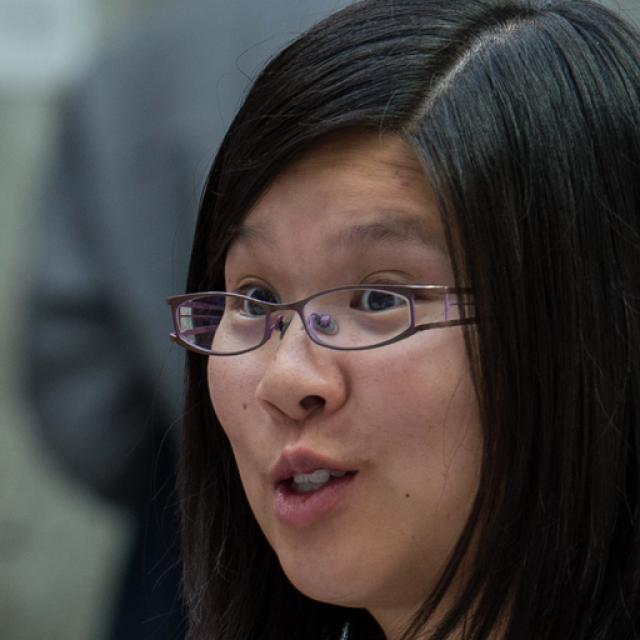surprise: (204, 132, 496, 608)
